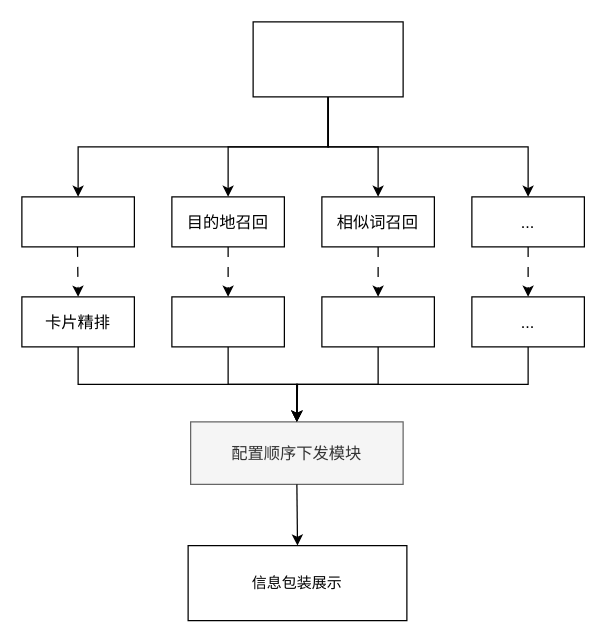
The diagram is 606 pixels wide and 643 high, and some of its shapes have lost their labels. Each missing label, with the centre of its shape:
"AI排序" goes at point 227,321.
"ES粗排" goes at point 377,321.
"Query理解" goes at point 327,59.
"玩法召回" goes at point 77,221.
